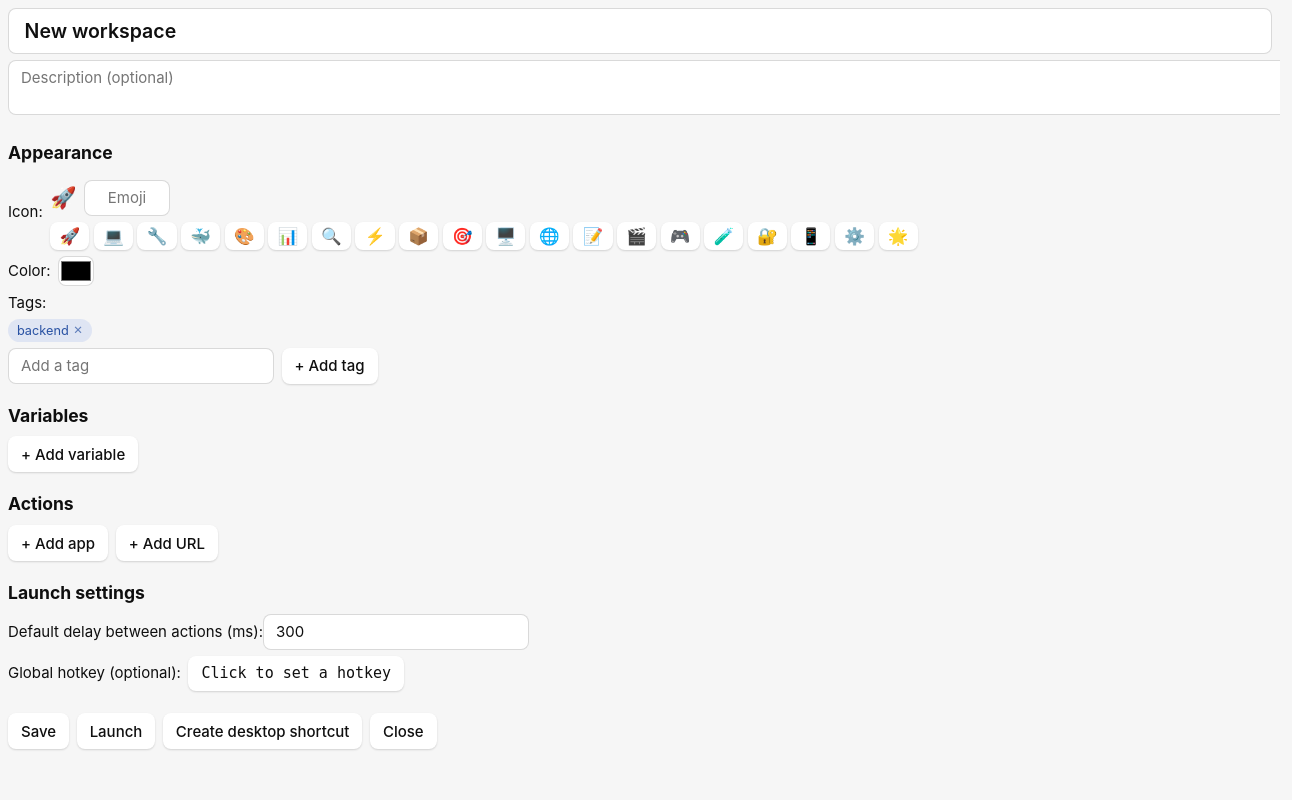
Test case: WorkspaceEditor › removes a tag
The width and height of the screenshot is (1292, 800).
Expected: the field with placeholder "Workspace name" is shown, 8,8 -> 1272,54
Step 1. Click the button named "remove tag backend" → (78,330), box 73,325 -> 83,336
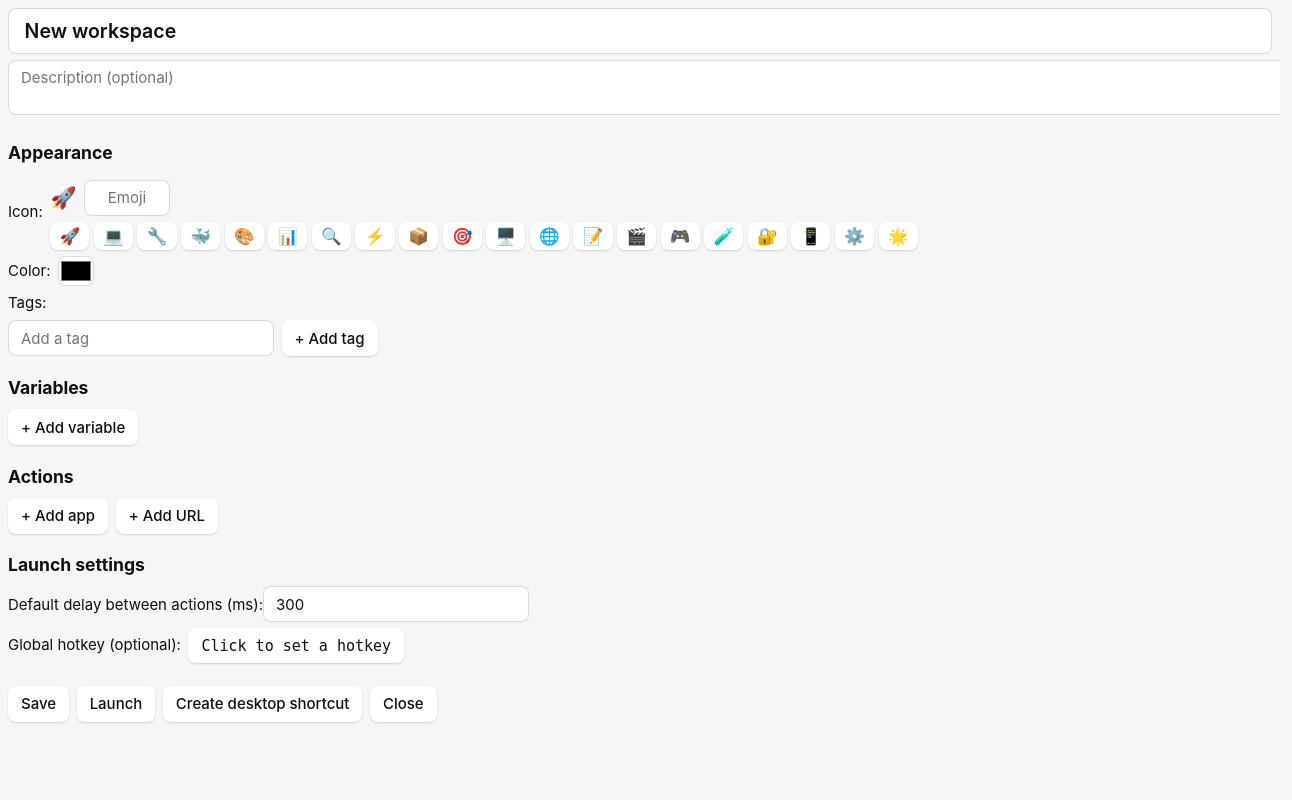
Expected: the text "backend" is gone
